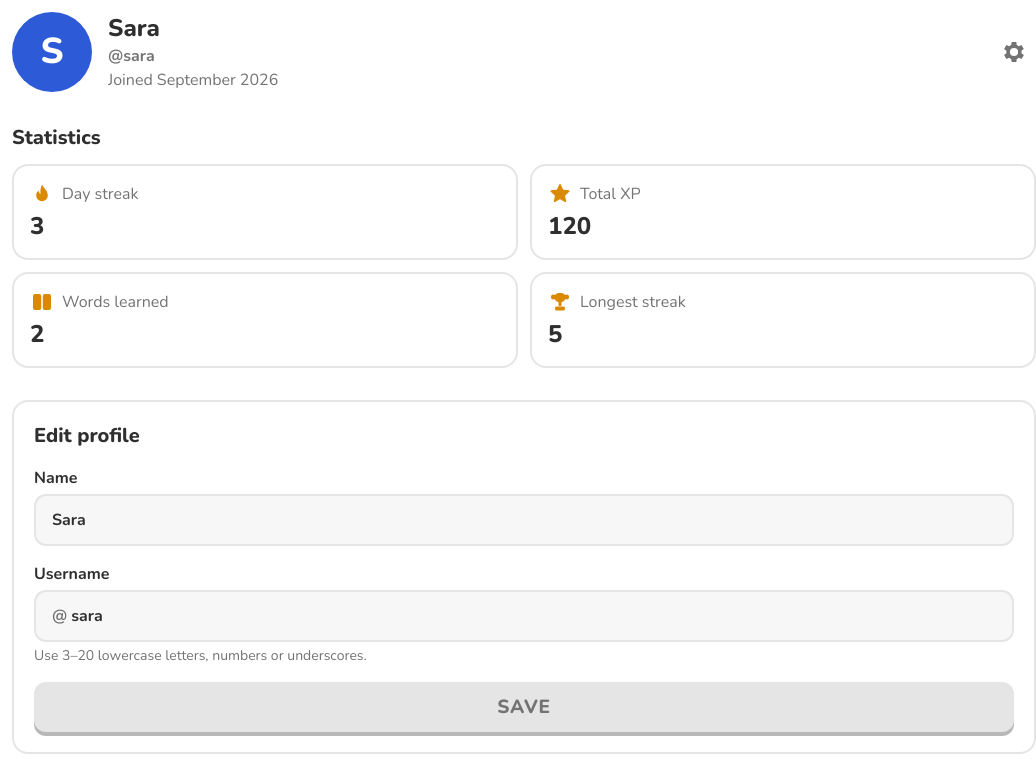
ProfileScreen › explains a 403 (a guest cannot pick a username)
Replace the text in the field labelled "Username" with "guesty" at coordinates (540, 616), box [67,592,1012,640]
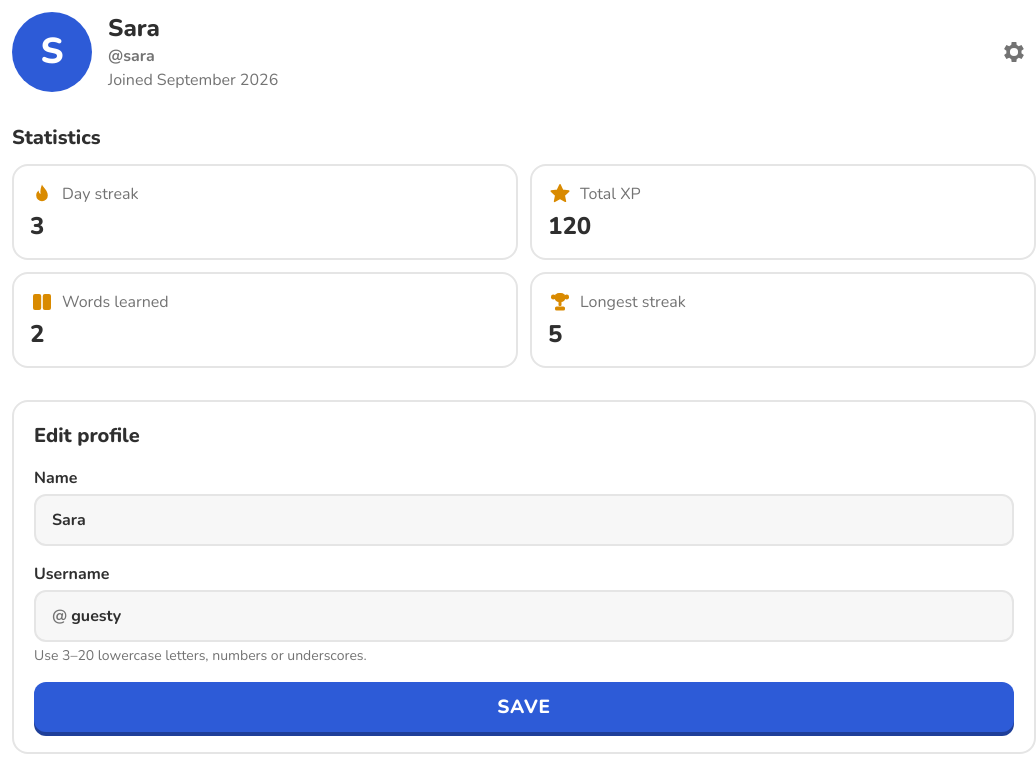
Click the button "Save" at coordinates (524, 707), box [34,682,1014,732]
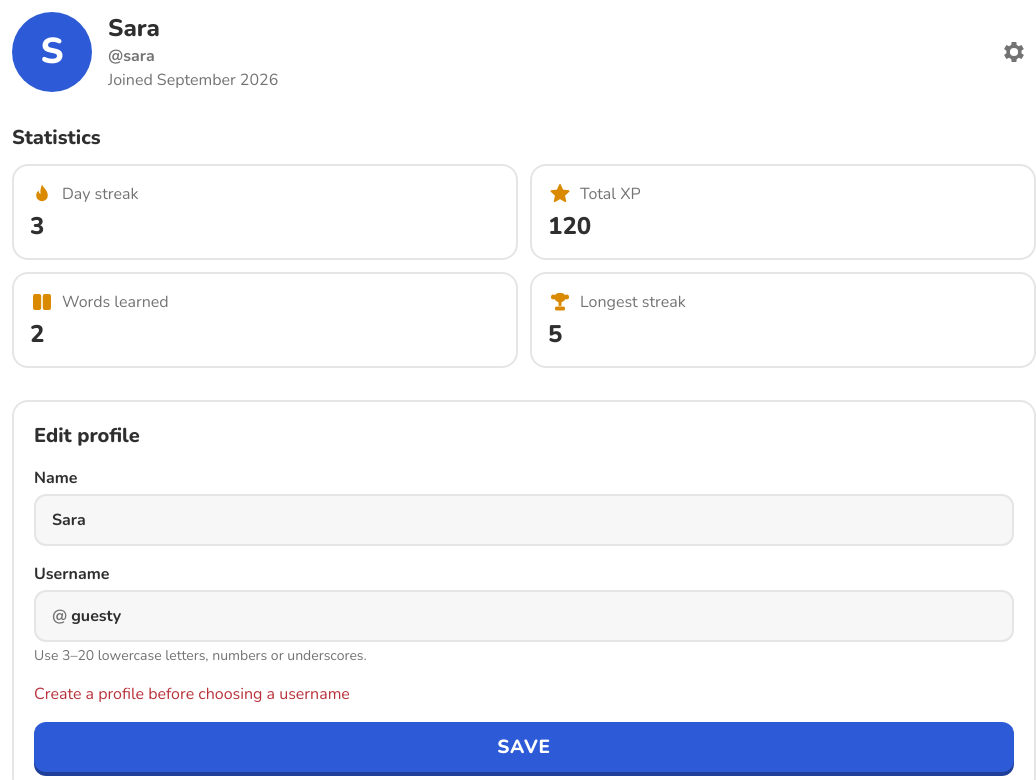
Result: the message shows "Create a profile before" at [34,683,350,705]
